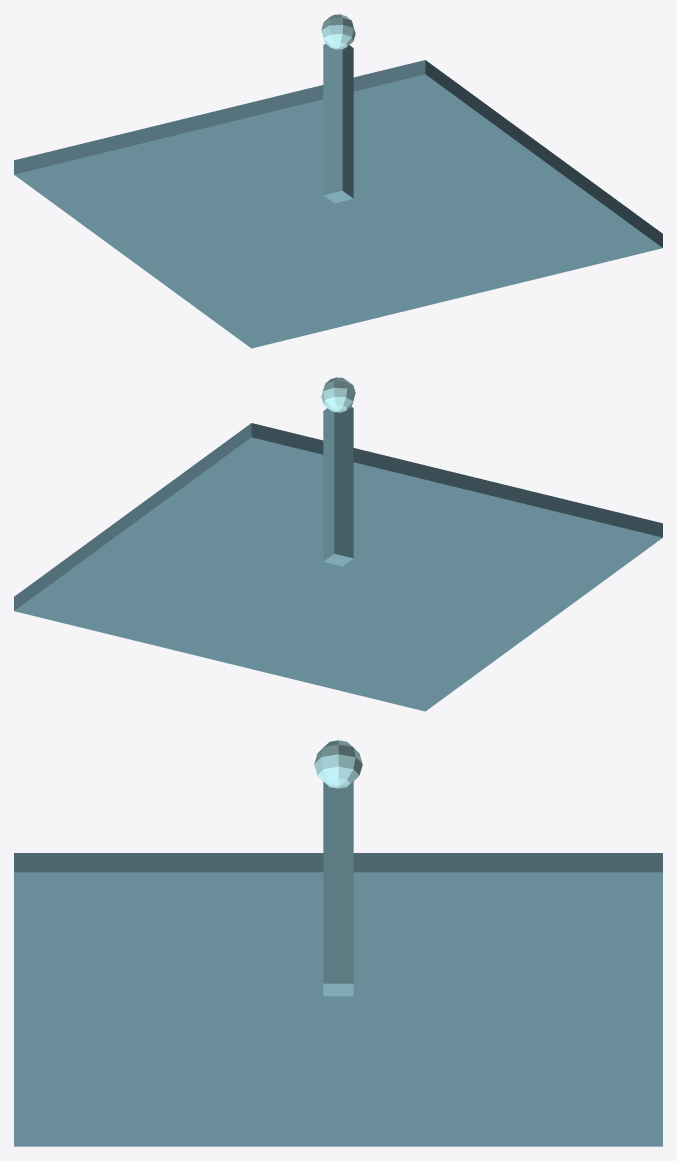
The model's file is haven.glb.
3 renders of one model, top to bottom at view 1: azimuth 30°, elevation 25°; view 2: azimuth 150°, elevation 25°; view 3: azimuth 270°, elevation 25°, orthographic. The views are drawn at different scales.
Bounding box in the file's own units: 12 × 5.45 × 12.
